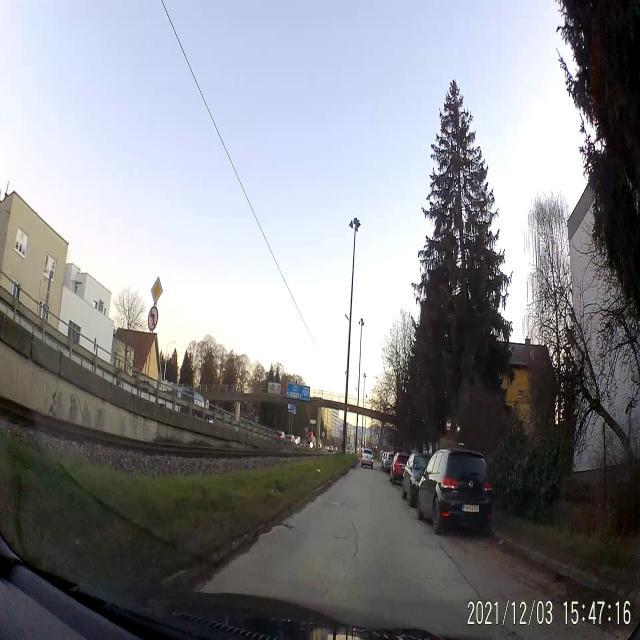Pothole: (269, 522, 296, 544)
